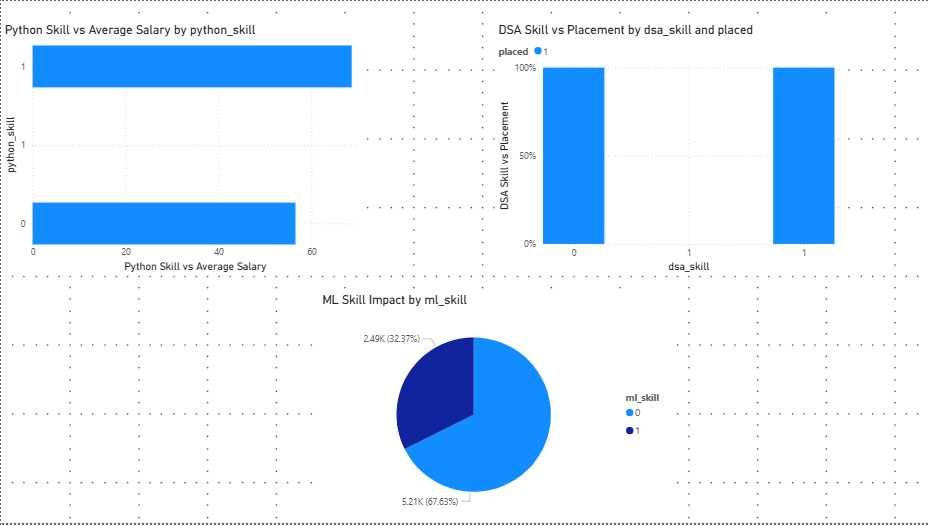

What the dashboard file says about the page in this screenshot:
{"tool":"powerbi","page":{"name":"Skill Insights","canvas":[1280,720],"ordinal":3},"visuals":[{"type":"barChart","fields":{"Y":["Avg(cleaned_placement_data.salary_lpa)"],"Category":["cleaned_placement_data.python_skill"]},"box":[0,29.5,504.6,349.5],"z":0},{"type":"hundredPercentStackedColumnChart","fields":{"Category":["cleaned_placement_data.dsa_skill"],"Y":["CountNonNull(cleaned_placement_data.student_id)"],"Series":["cleaned_placement_data.placed"]},"box":[681.8,29.5,473.8,349.5],"z":1000},{"type":"pieChart","fields":{"Category":["cleaned_placement_data.ml_skill"],"Y":["CountNonNull(cleaned_placement_data.student_id)"]},"box":[438.2,401.2,493.5,318.8],"z":2000}]}

Visuals, with their boxes in screenshot pixels (x1, y1, x2, y2), scaled from the page's 1280x720 canvas onto the 928x525 screenshot:
barChart - Avg(cleaned_placement_data.salary_lpa) x cleaned_placement_data.python_skill: crop(0, 22, 366, 276)
hundredPercentStackedColumnChart - cleaned_placement_data.dsa_skill x CountNonNull(cleaned_placement_data.student_id): crop(494, 22, 838, 276)
pieChart - cleaned_placement_data.ml_skill x CountNonNull(cleaned_placement_data.student_id): crop(318, 293, 675, 524)
